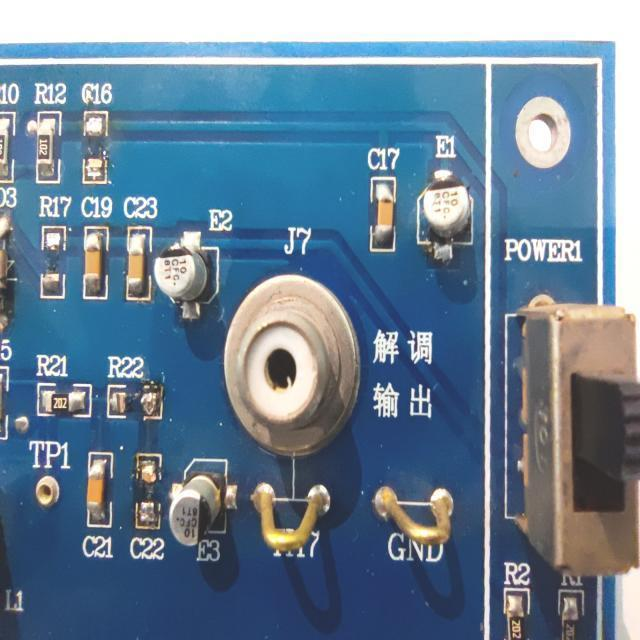Missing component: (99, 350, 170, 426), (126, 450, 168, 564), (35, 191, 74, 307), (77, 71, 113, 191)
